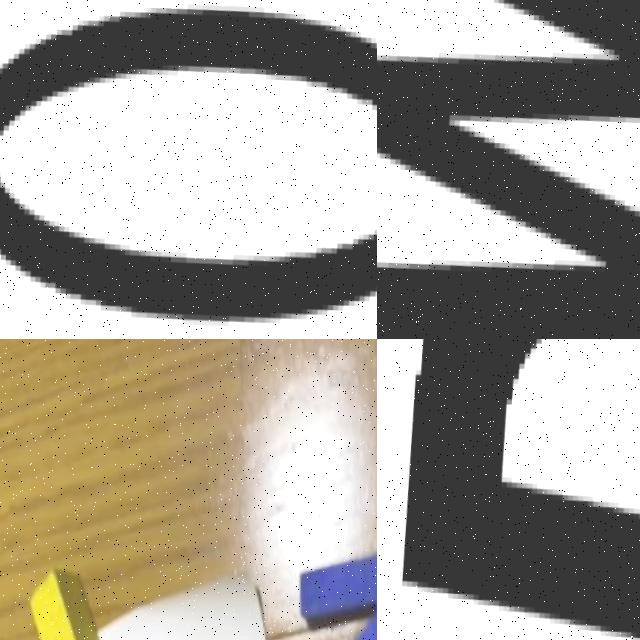0: (0, 0, 377, 339)
D: (377, 339, 640, 640)
L: (0, 549, 133, 640)
N: (286, 526, 377, 640)
W: (377, 0, 640, 339)
